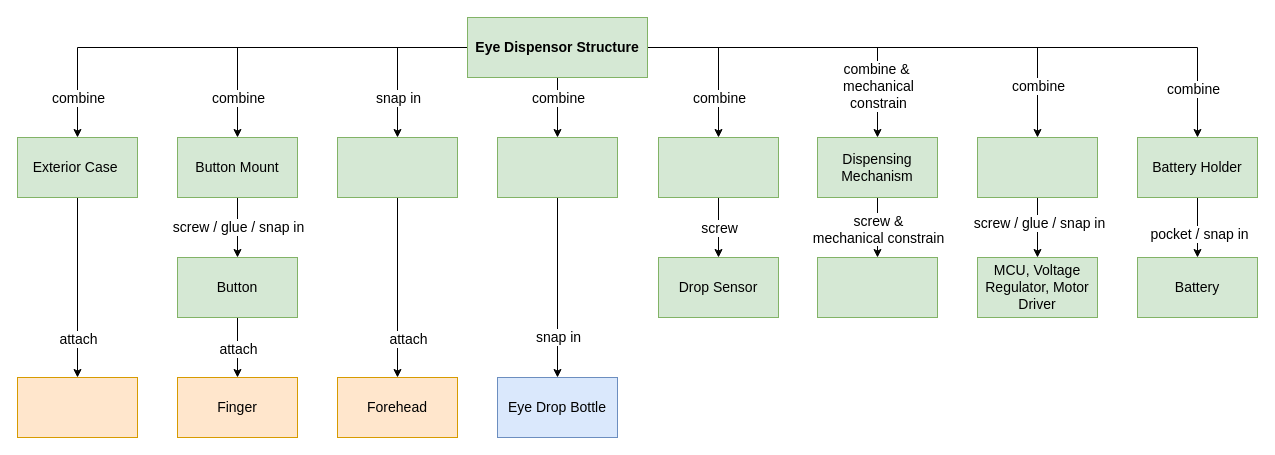
Some shapes in this 1275 by 455 pixel diagram are drawn without their labels. Each missing label, with the centre of its shape:
"Bottle Holder" goes at [557,167].
"Eye Piece" goes at [397,167].
"Motor" goes at [877,287].
"Palm" goes at [77,407].
"PCB holder" goes at [1037,167].
"Sensor Mount" goes at [718,167].
